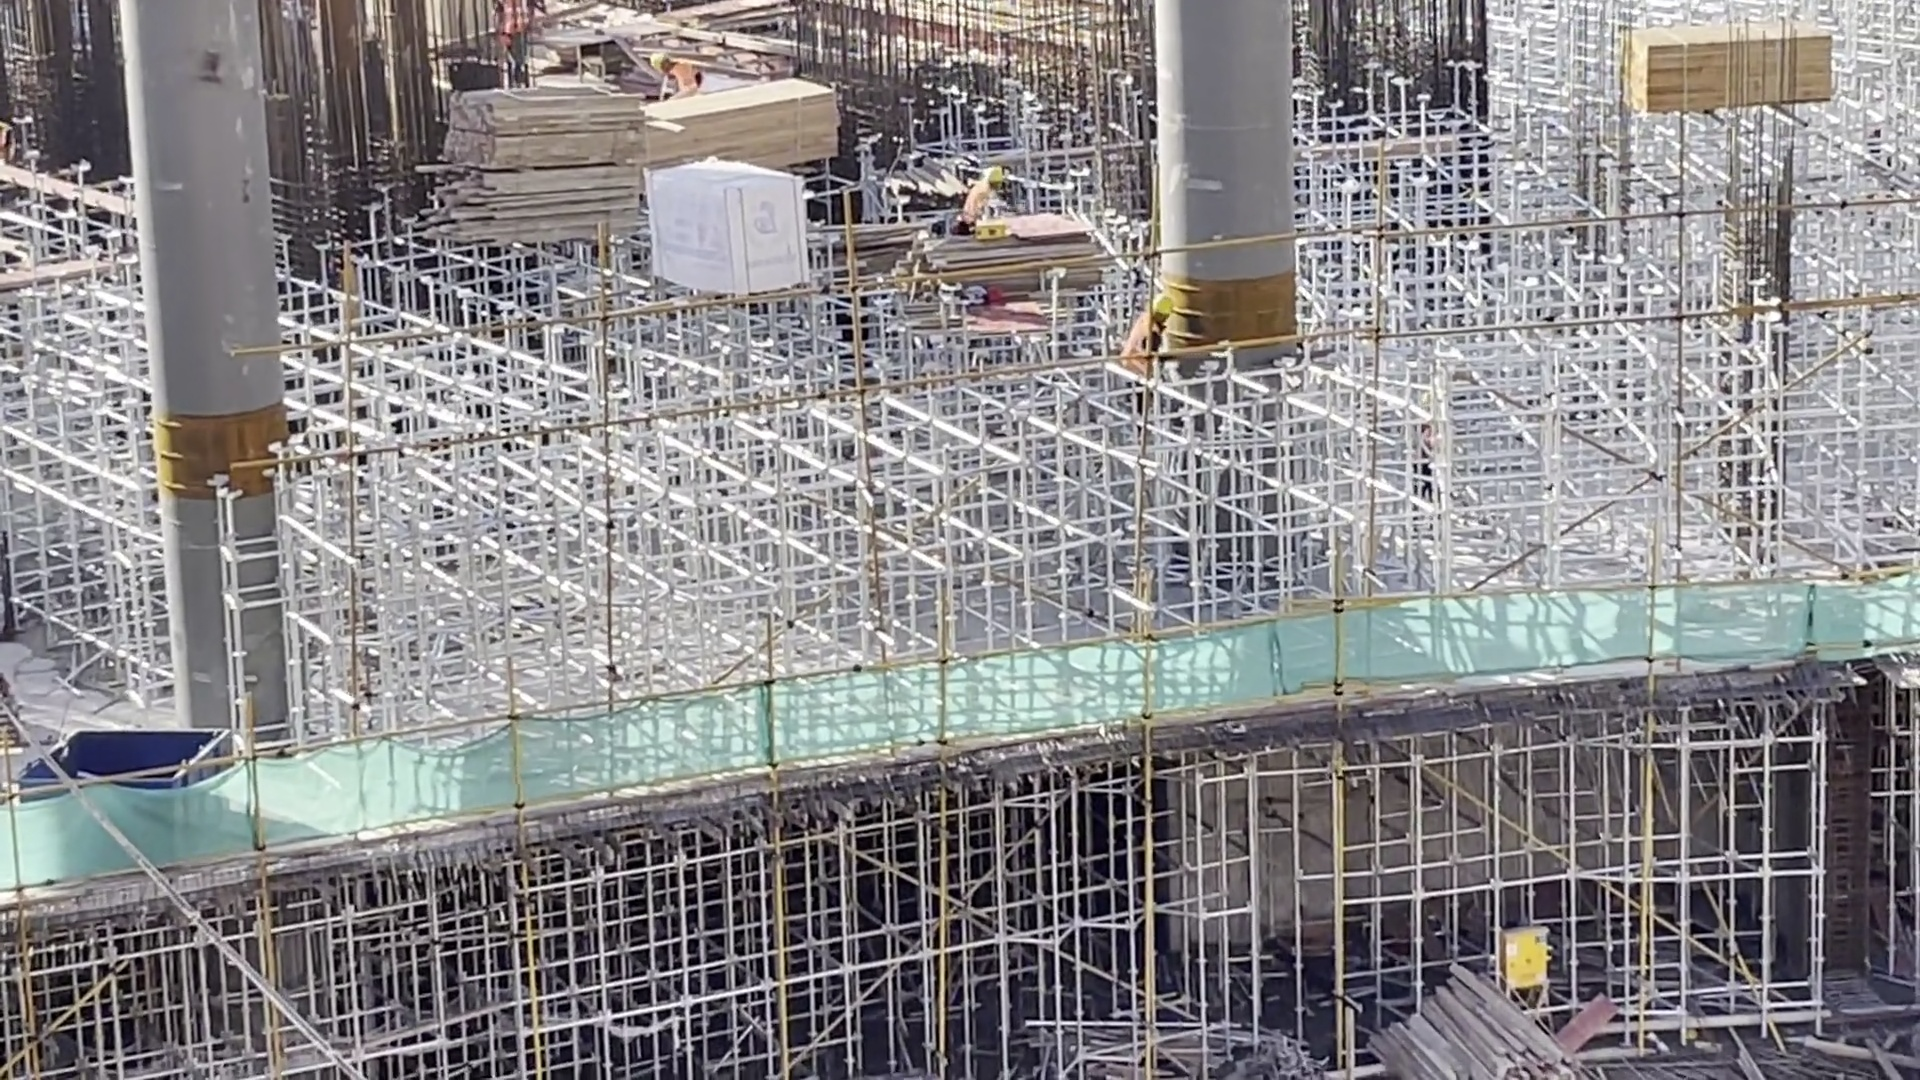board: (930, 209, 1117, 301)
ebox: (1502, 920, 1552, 997)
helmet: (1148, 292, 1172, 320), (980, 165, 1003, 183), (648, 51, 670, 70)
hopper: (17, 726, 230, 785)
person: (1117, 295, 1177, 366), (641, 47, 708, 98), (963, 165, 1007, 221)
vest: (1127, 314, 1164, 361), (962, 182, 998, 222), (670, 62, 699, 101)
wood: (406, 80, 645, 239), (1364, 963, 1594, 1080), (1618, 15, 1834, 112), (643, 78, 844, 164)
